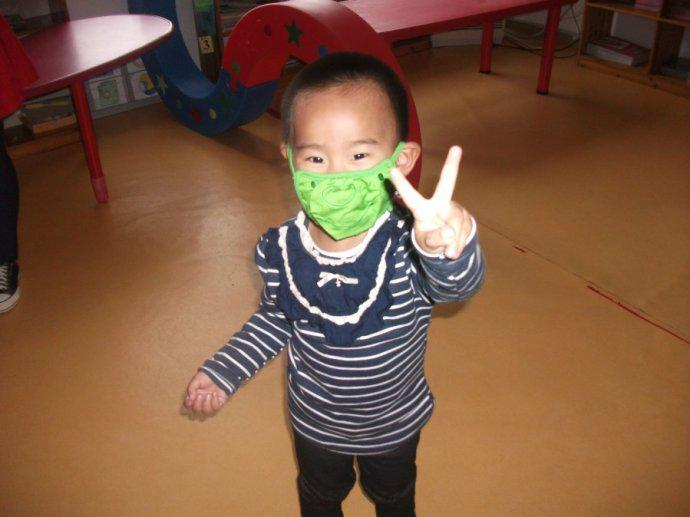OK: (292, 135, 394, 237)
